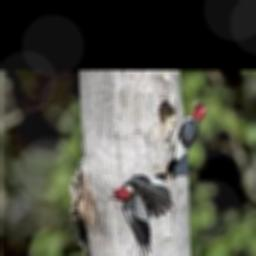Woodpecker: (108, 175, 173, 256), (165, 98, 205, 173)
